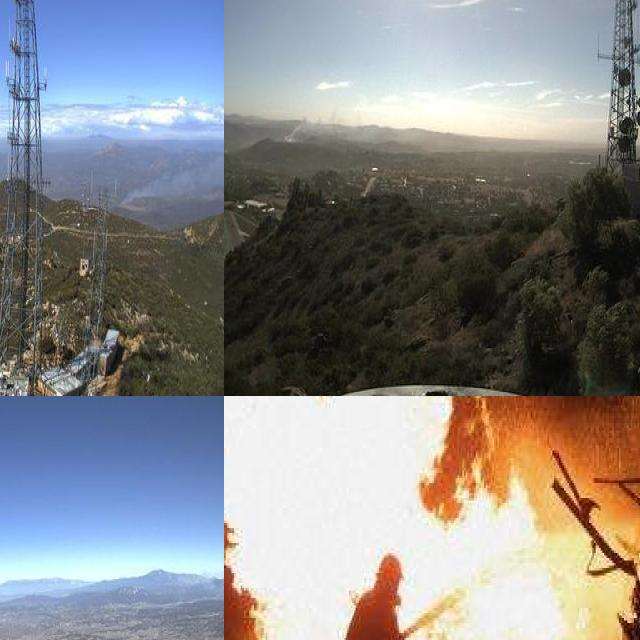fire: (224, 396, 588, 640)
smoke: (117, 154, 224, 208), (277, 100, 369, 145), (161, 560, 224, 602)
